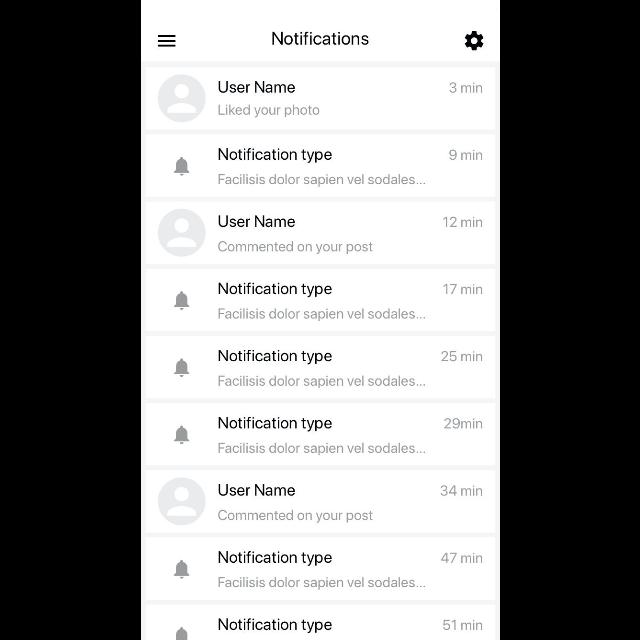icon: (157, 75, 205, 123), (157, 209, 205, 257), (157, 478, 205, 526), (464, 31, 484, 51), (173, 157, 189, 177), (173, 358, 189, 378), (173, 292, 189, 310), (173, 426, 189, 444), (173, 560, 189, 578), (157, 35, 175, 47), (176, 626, 187, 640)
panel: (144, 402, 496, 466), (145, 268, 495, 332), (145, 134, 495, 198), (145, 471, 495, 534), (144, 538, 496, 600), (144, 68, 496, 130), (145, 336, 495, 398), (145, 202, 495, 264), (145, 604, 495, 640)
text: (217, 173, 425, 187), (218, 308, 426, 322), (218, 442, 426, 456), (217, 375, 425, 389), (218, 576, 426, 590), (218, 241, 372, 255), (218, 509, 372, 523), (218, 148, 332, 164), (218, 282, 332, 298), (218, 349, 332, 365), (217, 416, 331, 432), (218, 618, 332, 634), (218, 552, 332, 566), (218, 104, 318, 118), (272, 32, 368, 46), (218, 81, 294, 93), (218, 215, 294, 227), (218, 484, 294, 496), (440, 484, 482, 496), (442, 216, 482, 228), (442, 351, 482, 362), (443, 418, 482, 429), (440, 552, 482, 562), (442, 620, 482, 630), (443, 284, 482, 294), (450, 82, 482, 94), (449, 150, 483, 160)
